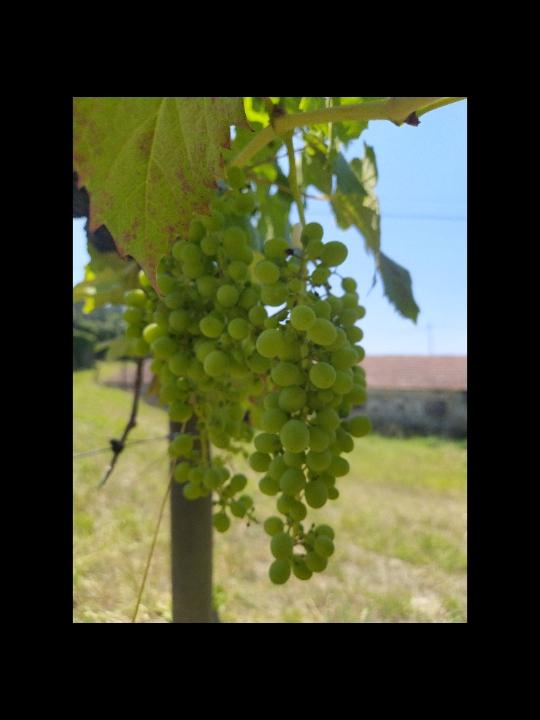grape: (122, 164, 263, 533), (253, 221, 374, 587)
